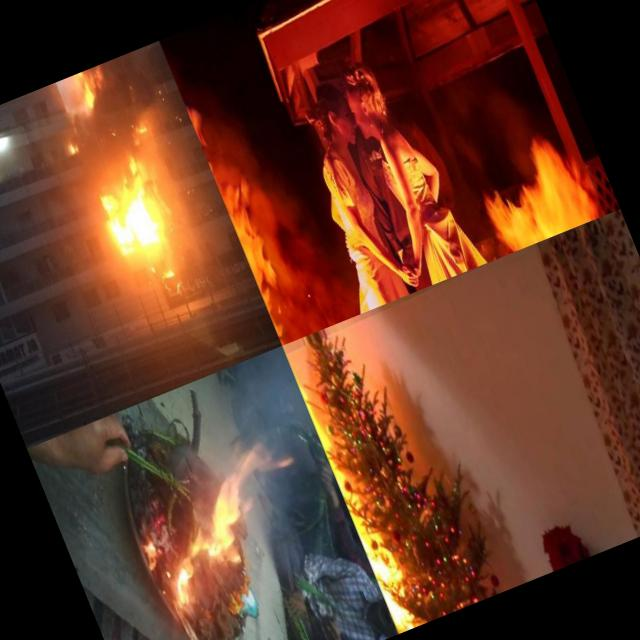fire: (286, 348, 418, 634), (427, 112, 620, 271), (76, 138, 195, 278), (174, 491, 266, 578), (138, 532, 209, 622), (206, 428, 296, 498), (74, 66, 108, 106), (58, 126, 86, 160)
smoke: (72, 81, 174, 160), (228, 345, 310, 438), (242, 470, 316, 560), (96, 42, 166, 98), (280, 416, 326, 468)
